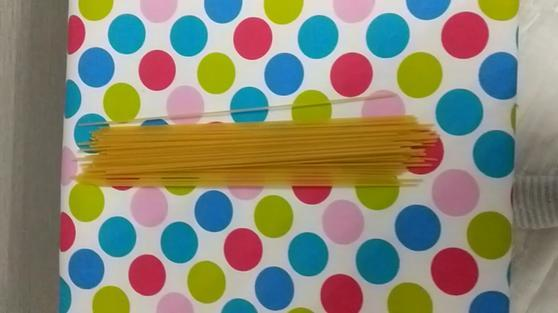spaghetti: (61, 91, 458, 203)
